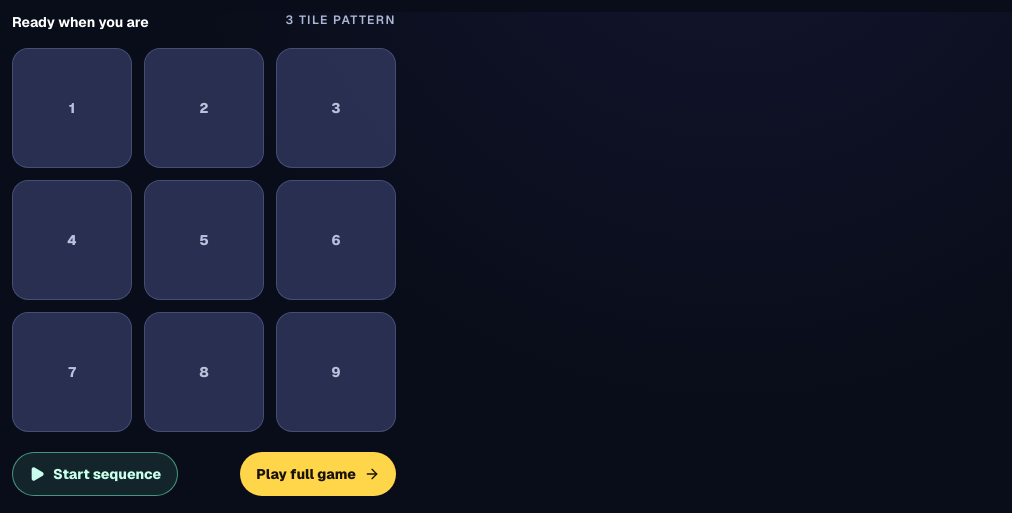
SequenceGameDemo › waits for an explicit replay after both failure and success
The width and height of the screenshot is (1012, 513).
Step 1. Click the button "Start sequence" → [95, 474], box [12,452,178,496]
Wait 1560 ms
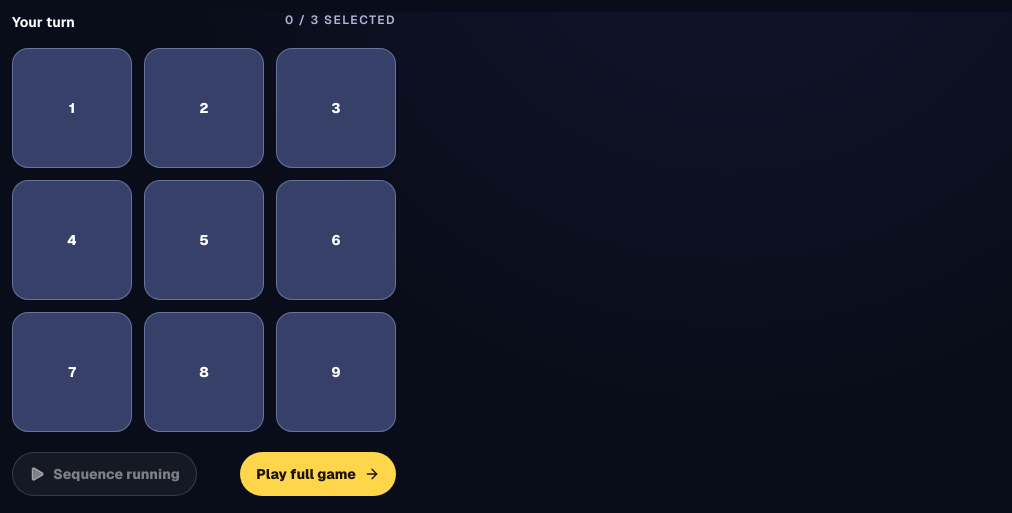
Step 2. Click the button named "Sequence tile 1" → [72, 108], box [12,48,132,168]
Wait 5000 ms
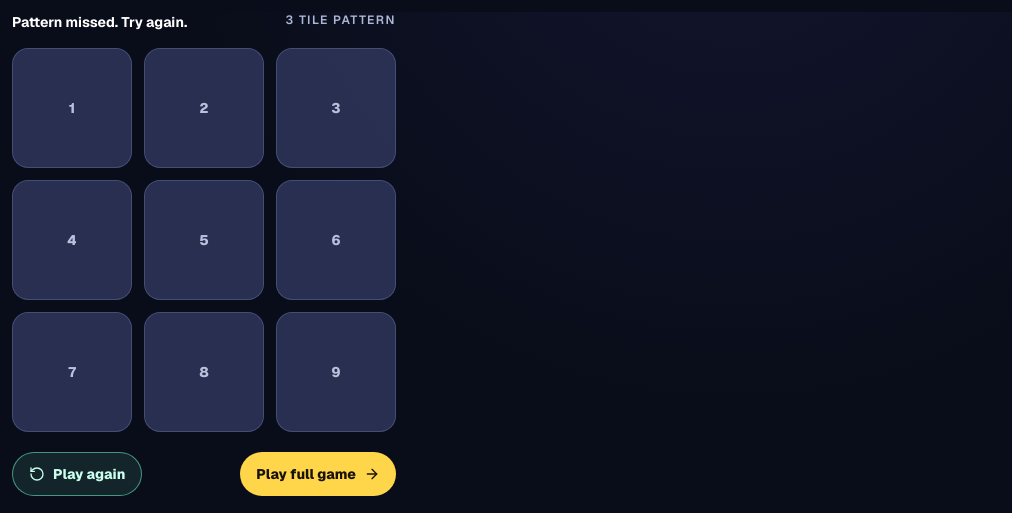
Result: the button "Play again" is enabled
Step 3. Click the button "Play again" → [77, 474], box [12,452,142,496]
Wait 1560 ms
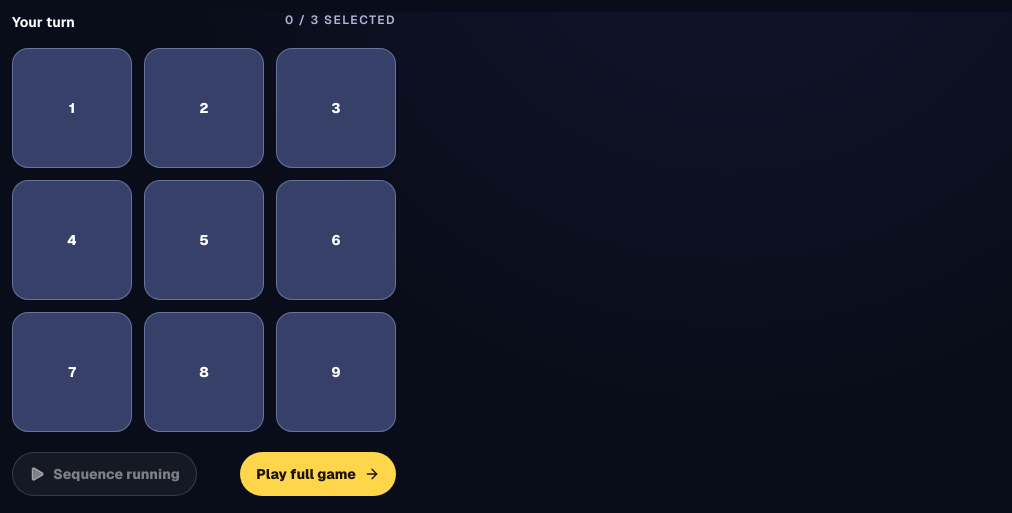
Step 4. Click the button named "Sequence tile 5" → [204, 240], box [144,180,264,300]
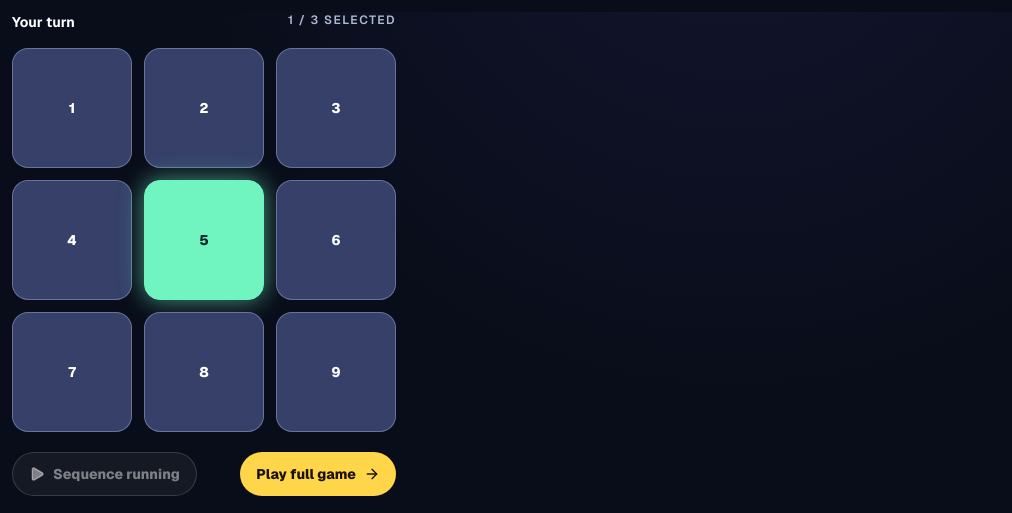
Step 5. Click the button "2" → [204, 108], box [144,48,264,168]
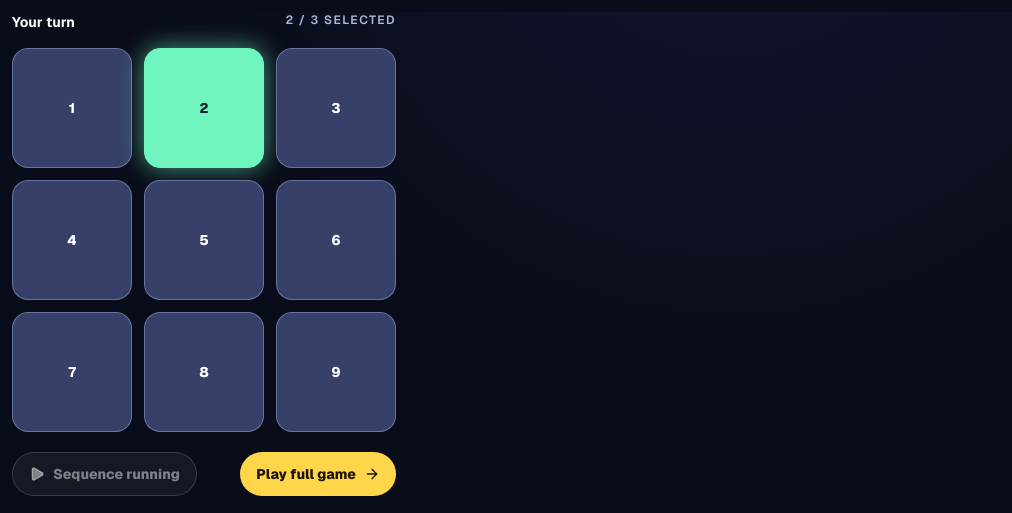
Step 6. Click the button "8" → [204, 372], box [144,312,264,432]
Wait 5000 ms
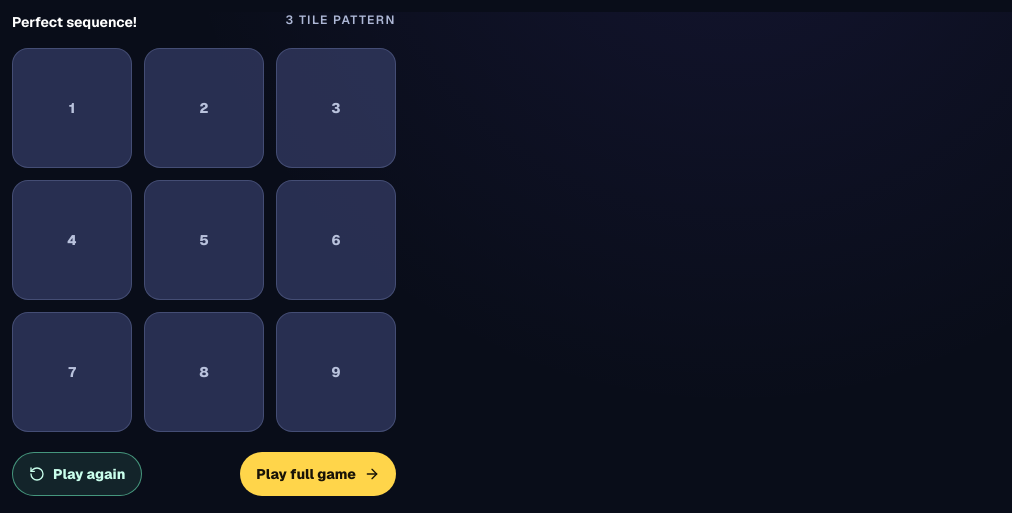
Result: the button "Play again" is enabled at [12,452,142,496]
